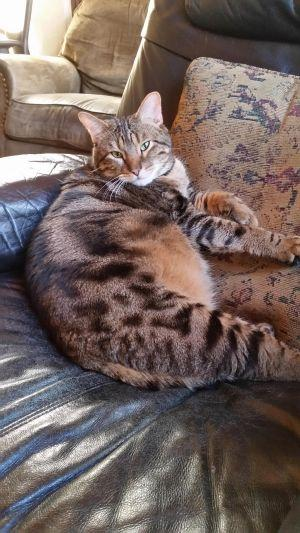bengal: (78, 90, 183, 199)
